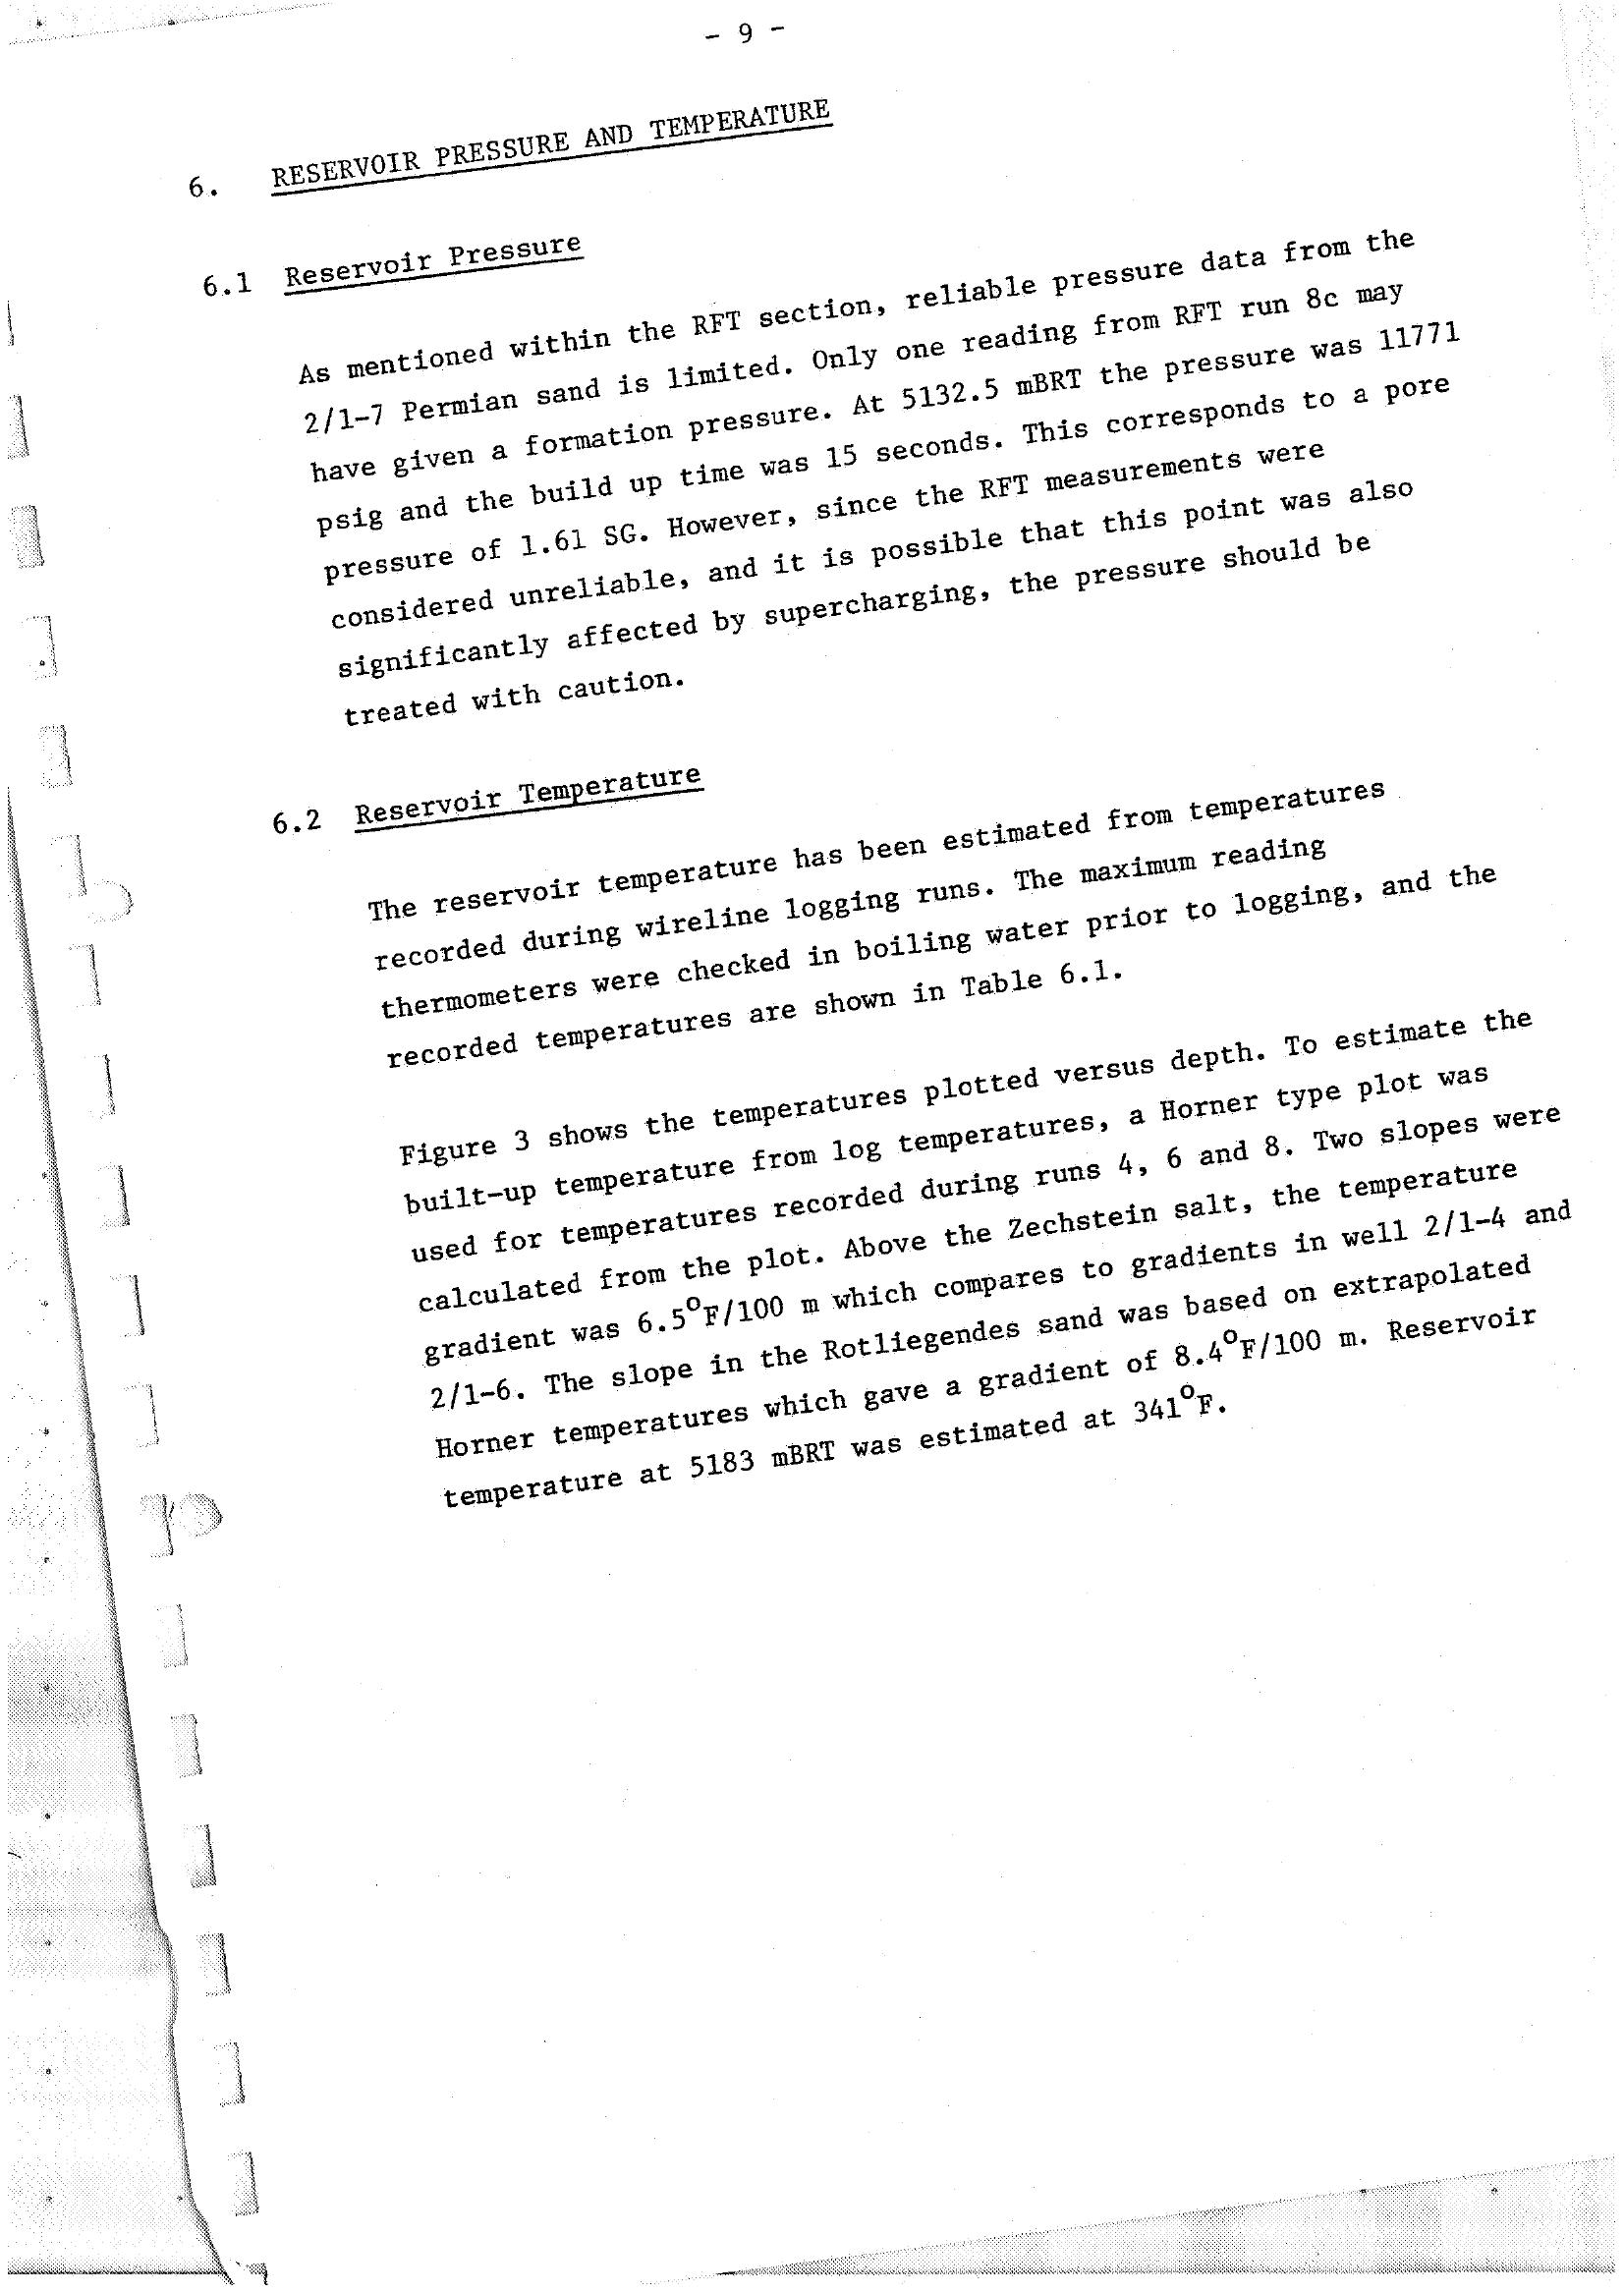text: (139, 81, 1615, 1518)
